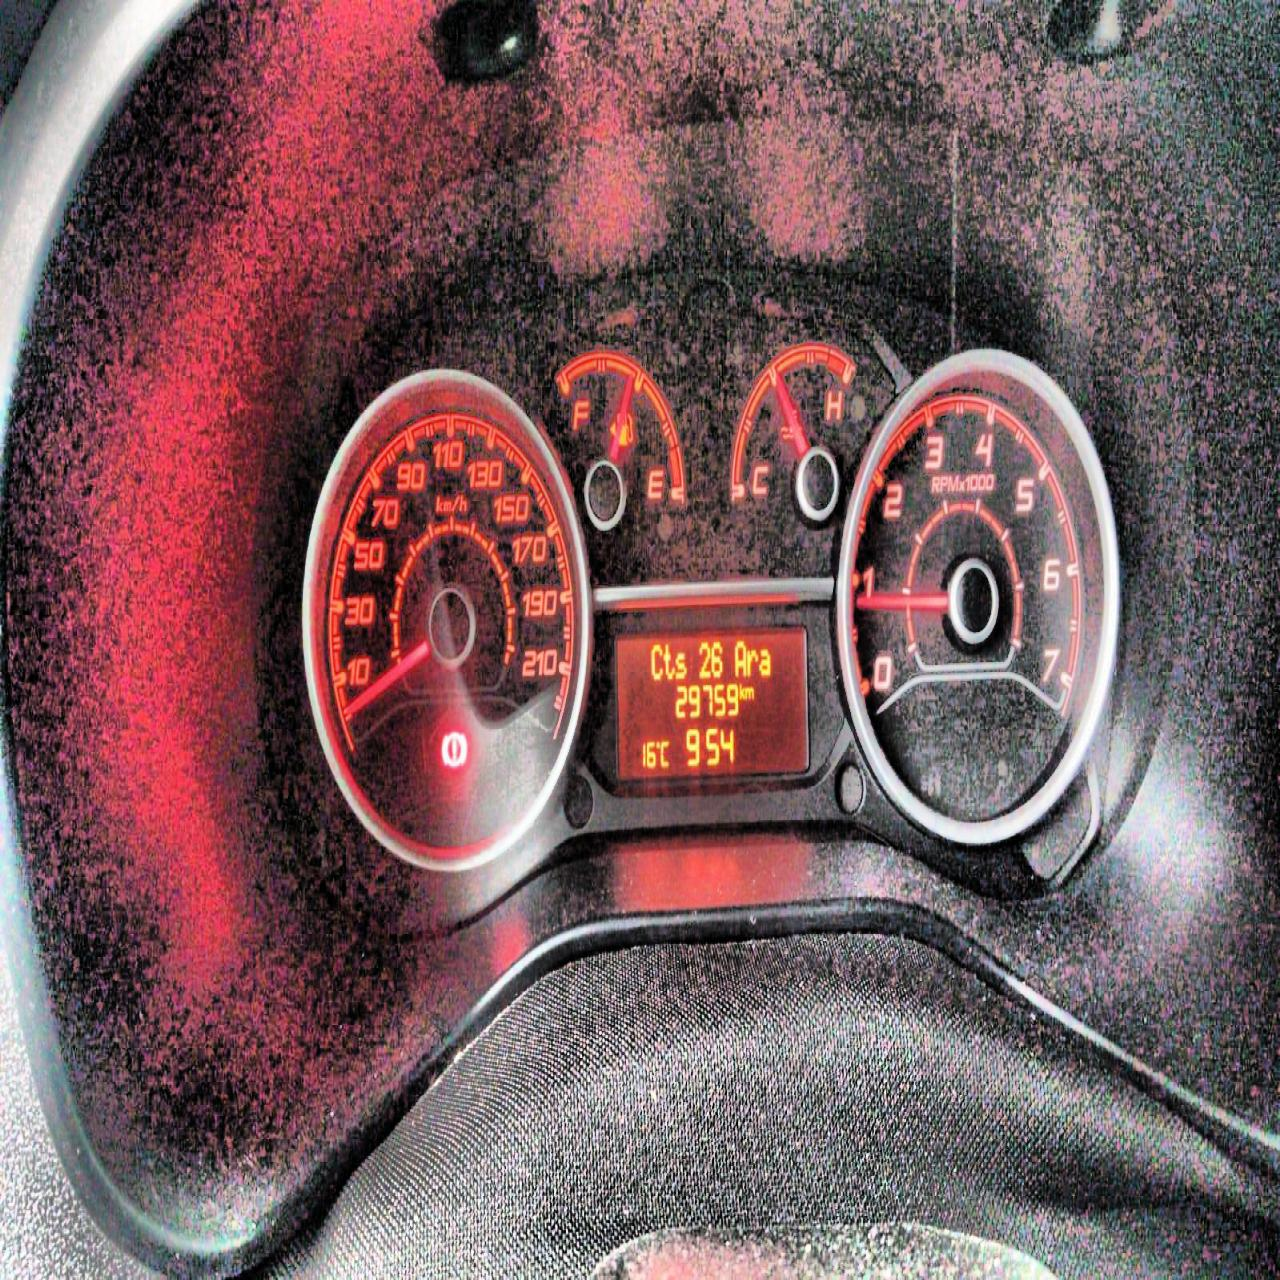1: (640, 741, 646, 769)
2: (697, 638, 710, 678), (675, 683, 686, 719)
4: (721, 726, 734, 763)
5: (704, 724, 719, 767), (714, 682, 726, 716)
6: (712, 639, 723, 678), (646, 738, 655, 769)
7: (701, 682, 713, 717)
9: (686, 727, 700, 769), (688, 683, 701, 717), (727, 681, 738, 717)
X: (651, 640, 663, 681), (734, 638, 747, 676), (663, 640, 674, 681), (659, 737, 672, 769), (758, 648, 772, 676), (745, 647, 758, 676), (675, 651, 687, 679), (744, 685, 754, 700), (738, 682, 744, 701)
odometer: (613, 629, 812, 781)
